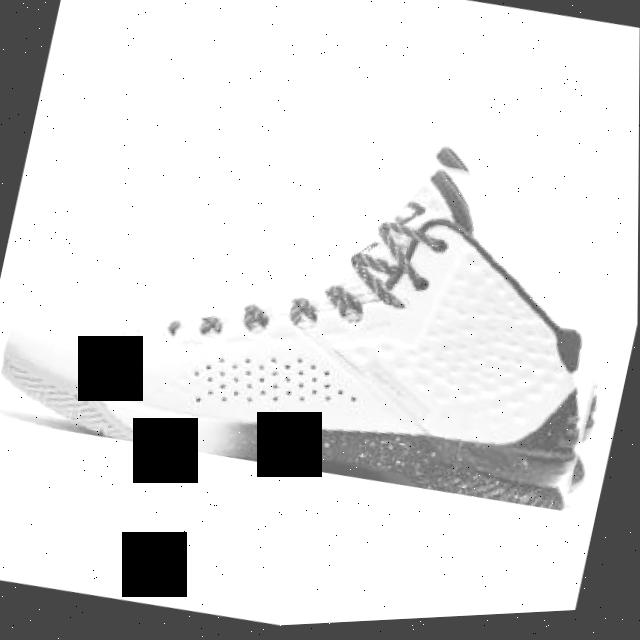shoe: (0, 58, 640, 543)
